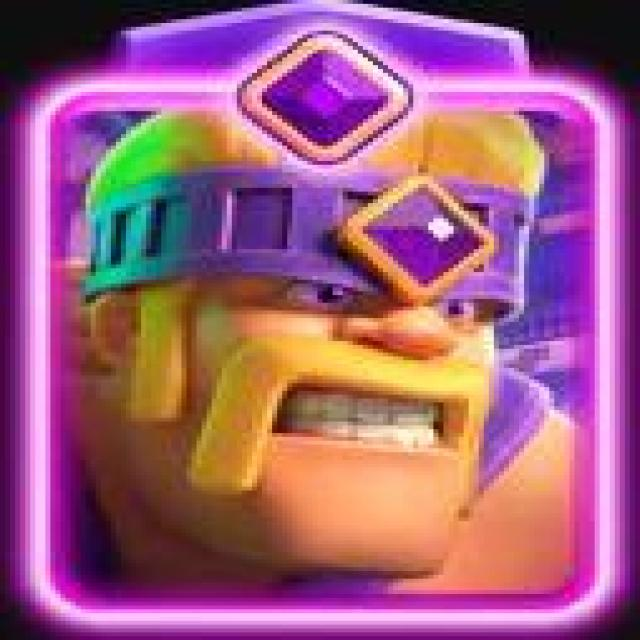Evolved_Barbarians: (21, 81, 618, 627)
